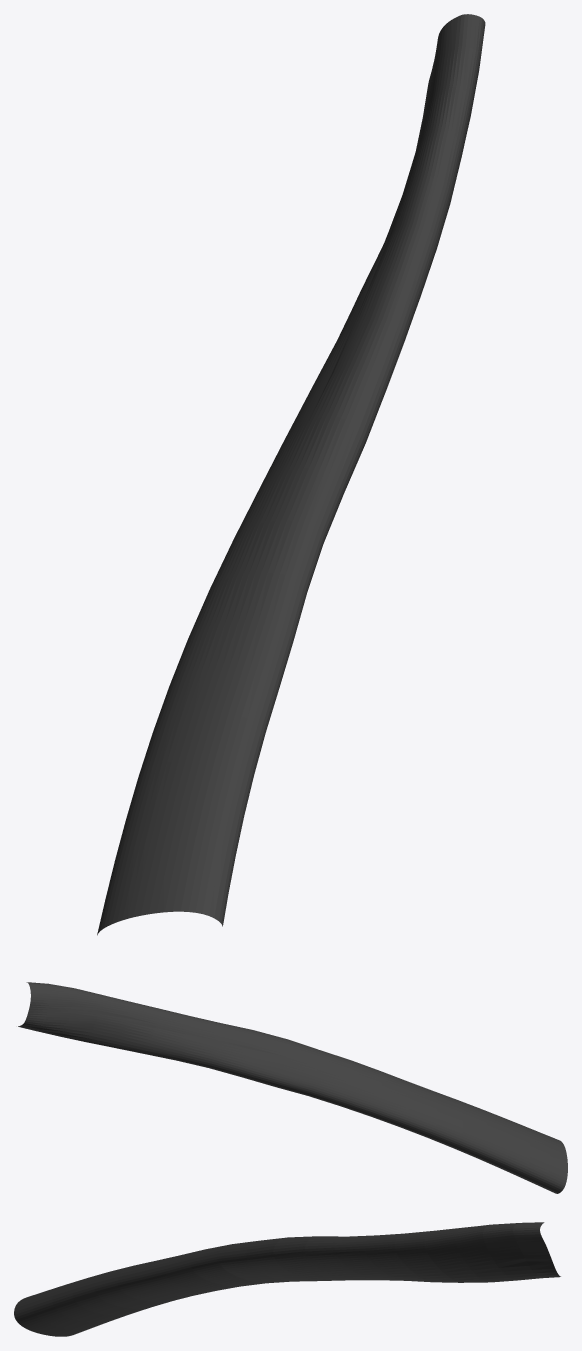
Rendered from N_5_trigeminus_maxillary_pterygopalatine.glb.
3 views of the same model, one above another, from view 1: azimuth 30°, elevation 25°; view 2: azimuth 150°, elevation 25°; view 3: azimuth 270°, elevation 25° (orthographic). The views are drawn at different scales.
Parts seen in each view (by area): view 1: N_5_trigeminus_maxillary_pterygopalatine; view 2: N_5_trigeminus_maxillary_pterygopalatine; view 3: N_5_trigeminus_maxillary_pterygopalatine.
Part boxes in pixels (x1,y1,x2,y2): N_5_trigeminus_maxillary_pterygopalatine: [97, 14, 485, 935]; N_5_trigeminus_maxillary_pterygopalatine: [18, 982, 567, 1193]; N_5_trigeminus_maxillary_pterygopalatine: [14, 1222, 560, 1336].
Bounding box in the file's own units: 0.00749 × 0.00491 × 0.00735.
1 material, 1 textured.
